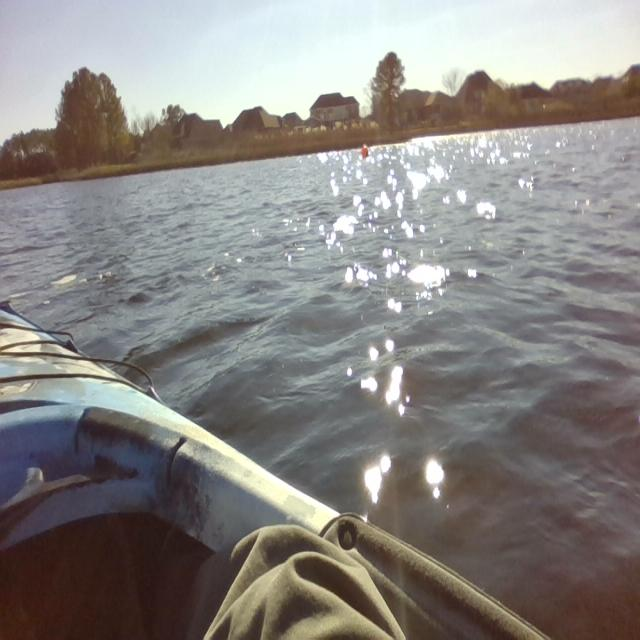Buoy: (357, 138, 374, 160)
